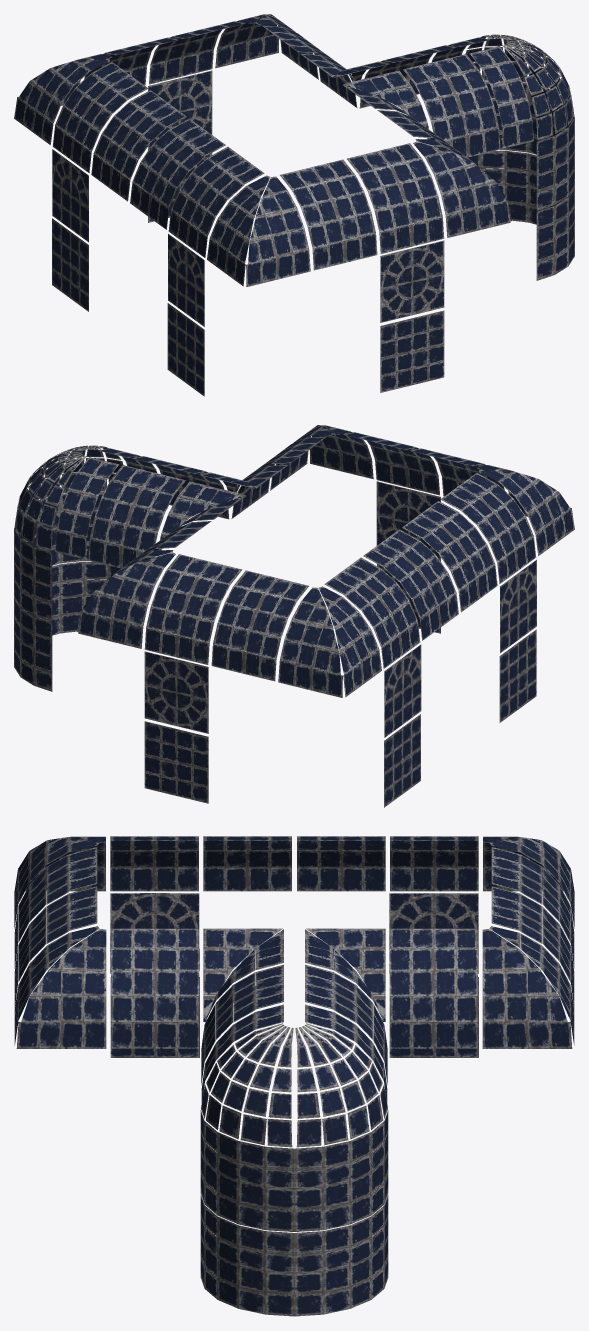
3 views of the same model, one above another, from view 1: azimuth 30°, elevation 25°; view 2: azimuth 150°, elevation 25°; view 3: azimuth 270°, elevation 25° (orthographic). The views are drawn at different scales.
Parts seen in each view (by area): view 1: ind_steelglas_roof_corner_02_inst_001_ind_glass_01_mt_0.003, ind_steelglas_roof_01_inst_001_ind_glass_01_mt_0.008, ind_steelglas_roof_01_inst_001_ind_glass_01_mt_0.009, ind_steelglas_roof_01_inst_001_ind_glass_01_mt_0.006, ind_steelglas_roof_corner_02_inst_001_ind_glass_01_mt_0.002, ind_steelglas_roof_01_inst_001_ind_glass_01_mt_0.010, ind_steelglas_roof_01_inst_001_ind_glass_01_mt_0.011, ind_steelglas_roof_01_inst_001_ind_glass_01_mt_0.005, ind_steelglas_roof_01_inst_001_ind_glass_01_mt_0.004, ind_steelglas_base_03_inst_001_ind_glass_01_mt_0.001, ind_steelglas_base_01_inst_001_ind_glass_01_mt_0.001, ind_steelglas_roof_corner_02_inst_001_ind_glass_01_mt_0.001 (+21 smaller); view 2: ind_steelglas_roof_corner_02_inst_001_ind_glass_01_mt_0.001, ind_steelglas_roof_01_inst_001_ind_glass_01_mt_0.002, ind_steelglas_roof_01_inst_001_ind_glass_01_mt_0.003, ind_steelglas_roof_01_inst_001, ind_steelglas_roof_corner_02_inst_001, ind_steelglas_roof_01_inst_001_ind_glass_01_mt_0.005, ind_steelglas_roof_01_inst_001_ind_glass_01_mt_0.004, ind_steelglas_roof_01_inst_001_ind_glass_01_mt_0.010, ind_steelglas_roof_01_inst_001_ind_glass_01_mt_0.011, ind_steelglas_base_03_inst_001_ind_glass_01_mt_0.003, ind_steelglas_base_01_inst_001_ind_glass_01_mt_0.004, ind_steelglas_roof_corner_02_inst_001_ind_glass_01_mt_0.003 (+21 smaller); view 3: ind_steelglas_roof_01_inst_001_ind_glass_01_mt_0.001, ind_steelglas_roof_01_inst_001_ind_glass_01_mt_0.007, ind_steelglas_roof_corner_02_inst_001, ind_steelglas_roof_corner_02_inst_001_ind_glass_01_mt_0.002, ind_steelglas_base_corner_01_inst_001_ind_glass_01_mt_0.002, ind_steelglas_base_corner_01_inst_001, ind_steelglas_base_corner_01_inst_001_ind_glass_01_mt_0.003, ind_steelglas_base_corner_01_inst_001_ind_glass_01_mt_0.001, ind_steelglas_roof_corner_01_inst_001, ind_steelglas_roof_corner_01_inst_001_ind_glass_01_mt_0.001, ind_steelglas_roof_01_inst_001_ind_glass_01_mt_0.004, ind_steelglas_roof_01_inst_001_ind_glass_01_mt_0.005 (+18 smaller).
Boxes of the visible parts, left/top/right/bottom form: ind_steelglas_roof_corner_02_inst_001_ind_glass_01_mt_0.003: left=207, top=175, right=310, bottom=286; ind_steelglas_roof_01_inst_001_ind_glass_01_mt_0.008: left=280, top=159, right=377, bottom=270; ind_steelglas_roof_01_inst_001_ind_glass_01_mt_0.009: left=347, top=143, right=444, bottom=253; ind_steelglas_roof_01_inst_001_ind_glass_01_mt_0.006: left=403, top=54, right=500, bottom=157; ind_steelglas_roof_corner_02_inst_001_ind_glass_01_mt_0.002: left=413, top=139, right=511, bottom=237; ind_steelglas_roof_01_inst_001_ind_glass_01_mt_0.010: left=168, top=146, right=264, bottom=257; ind_steelglas_roof_01_inst_001_ind_glass_01_mt_0.011: left=130, top=118, right=225, bottom=229; ind_steelglas_roof_01_inst_001_ind_glass_01_mt_0.005: left=91, top=90, right=186, bottom=201; ind_steelglas_roof_01_inst_001_ind_glass_01_mt_0.004: left=52, top=62, right=148, bottom=172; ind_steelglas_base_03_inst_001_ind_glass_01_mt_0.001: left=380, top=240, right=444, bottom=322; ind_steelglas_base_01_inst_001_ind_glass_01_mt_0.001: left=380, top=310, right=444, bottom=392; ind_steelglas_roof_corner_02_inst_001_ind_glass_01_mt_0.001: left=14, top=54, right=112, bottom=144; ind_steelglas_roof_corner_02_inst_001_ind_glass_01_mt_0.001: left=278, top=586, right=381, bottom=697; ind_steelglas_roof_01_inst_001_ind_glass_01_mt_0.002: left=211, top=570, right=308, bottom=681; ind_steelglas_roof_01_inst_001_ind_glass_01_mt_0.003: left=144, top=554, right=242, bottom=664; ind_steelglas_roof_01_inst_001: left=88, top=465, right=185, bottom=568; ind_steelglas_roof_corner_02_inst_001: left=77, top=550, right=175, bottom=648; ind_steelglas_roof_01_inst_001_ind_glass_01_mt_0.005: left=363, top=529, right=458, bottom=640; ind_steelglas_roof_01_inst_001_ind_glass_01_mt_0.004: left=324, top=557, right=420, bottom=668; ind_steelglas_roof_01_inst_001_ind_glass_01_mt_0.010: left=440, top=473, right=536, bottom=583; ind_steelglas_roof_01_inst_001_ind_glass_01_mt_0.011: left=402, top=501, right=497, bottom=612; ind_steelglas_base_03_inst_001_ind_glass_01_mt_0.003: left=144, top=651, right=208, bottom=733; ind_steelglas_base_01_inst_001_ind_glass_01_mt_0.004: left=144, top=721, right=208, bottom=803; ind_steelglas_roof_corner_02_inst_001_ind_glass_01_mt_0.003: left=476, top=465, right=574, bottom=555; ind_steelglas_roof_01_inst_001_ind_glass_01_mt_0.001: left=389, top=928, right=477, bottom=1048; ind_steelglas_roof_01_inst_001_ind_glass_01_mt_0.007: left=111, top=928, right=199, bottom=1048; ind_steelglas_roof_corner_02_inst_001: left=482, top=926, right=574, bottom=1048; ind_steelglas_roof_corner_02_inst_001_ind_glass_01_mt_0.002: left=14, top=926, right=106, bottom=1048; ind_steelglas_base_corner_01_inst_001_ind_glass_01_mt_0.002: left=294, top=1194, right=388, bottom=1316; ind_steelglas_base_corner_01_inst_001: left=294, top=1110, right=388, bottom=1231; ind_steelglas_base_corner_01_inst_001_ind_glass_01_mt_0.003: left=200, top=1194, right=294, bottom=1316; ind_steelglas_base_corner_01_inst_001_ind_glass_01_mt_0.001: left=200, top=1110, right=294, bottom=1231; ind_steelglas_roof_corner_01_inst_001: left=295, top=1023, right=387, bottom=1147; ind_steelglas_roof_corner_01_inst_001_ind_glass_01_mt_0.001: left=201, top=1023, right=293, bottom=1147; ind_steelglas_roof_01_inst_001_ind_glass_01_mt_0.004: left=390, top=836, right=478, bottom=891; ind_steelglas_roof_01_inst_001_ind_glass_01_mt_0.005: left=297, top=836, right=385, bottom=891.
Size of the model in its own units: 19.59 by 9.03 by 18.08.
1 material, 1 textured.
